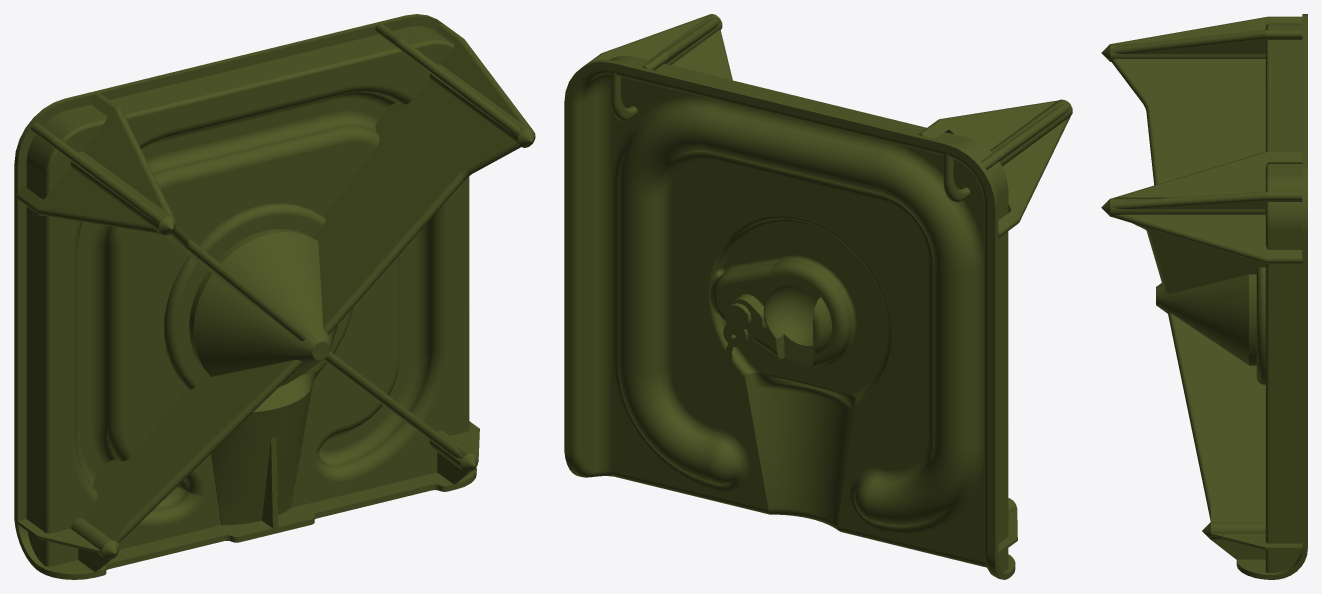
Rendered from DeSung.glb.
The picture shows the model from 3 angles, left to right: view 1: azimuth 30°, elevation 25°; view 2: azimuth 150°, elevation 25°; view 3: azimuth 270°, elevation 25°; orthographic projection. The views are drawn at different scales.
Visible parts, largest first — view 1: DeCoi; view 2: DeCoi; view 3: DeCoi.
Boxes of the visible parts, x1=… form: DeCoi: x1=14, y1=14, x2=535, y2=579; DeCoi: x1=564, y1=14, x2=1072, y2=579; DeCoi: x1=1101, y1=14, x2=1307, y2=579.
Size of the model in its own units: 247 by 239 by 113.
